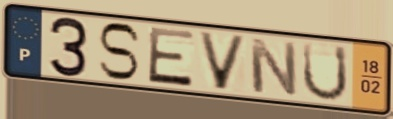3: (46, 14, 91, 79)
E: (146, 25, 197, 90)
N: (247, 35, 300, 99)
S: (95, 21, 143, 83)
U: (300, 40, 350, 103)
V: (195, 29, 250, 93)
